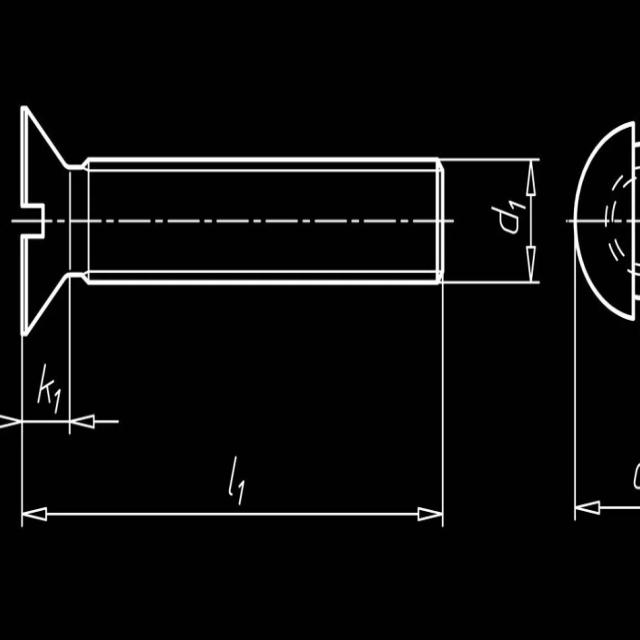marking_line: (23, 506, 440, 525), (523, 158, 541, 286), (572, 498, 640, 523), (72, 414, 123, 432), (0, 410, 20, 437)
